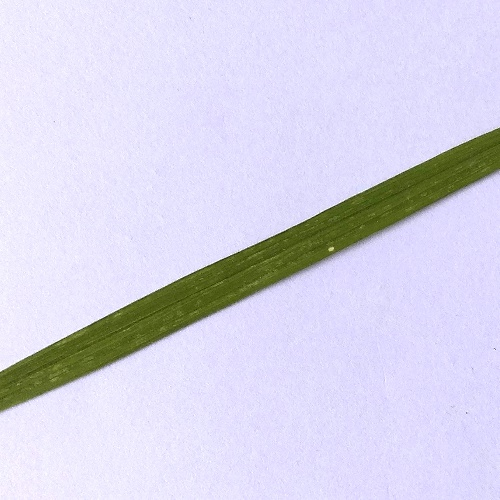Busuk Leher: (319, 240, 342, 257)
